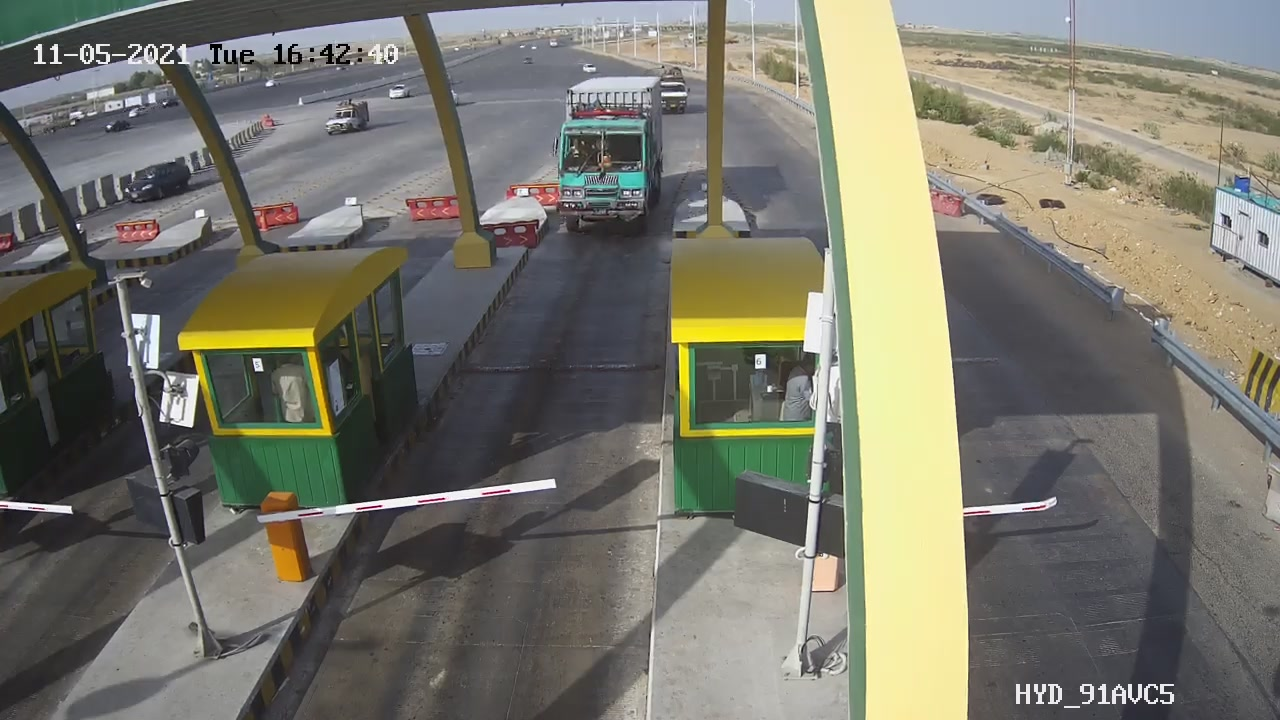F6: (533, 64, 683, 250)
